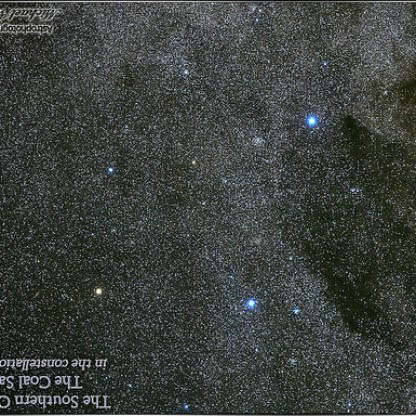Southern Cross: (98, 155, 131, 183), (298, 105, 327, 135), (88, 279, 117, 302), (239, 290, 263, 317)
